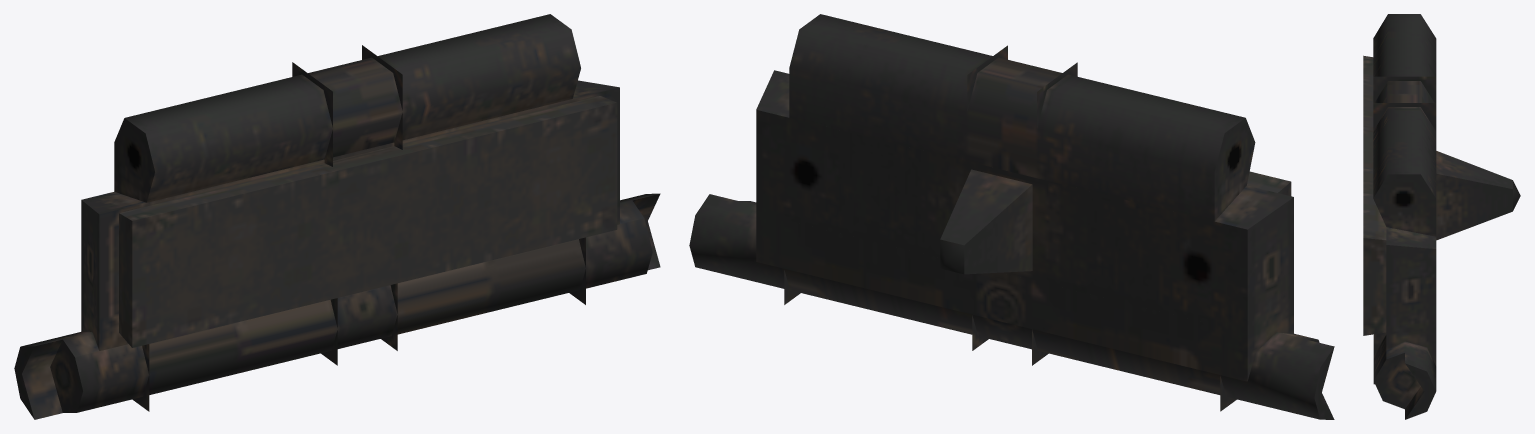
The picture shows the model from 3 angles, left to right: view 1: azimuth 30°, elevation 25°; view 2: azimuth 150°, elevation 25°; view 3: azimuth 270°, elevation 25°; orthographic projection. The views are drawn at different scales.
Parts seen in each view (by area): view 1: set_0_group_0; view 2: set_0_group_0; view 3: set_0_group_0.
Part boxes in pixels (x1,y1,x2,y2): set_0_group_0: [14, 14, 660, 419]; set_0_group_0: [689, 14, 1334, 419]; set_0_group_0: [1363, 14, 1520, 419].
Size of the model in its own units: 0.4473 by 0.1882 by 0.1266.
1 material, 1 textured.
